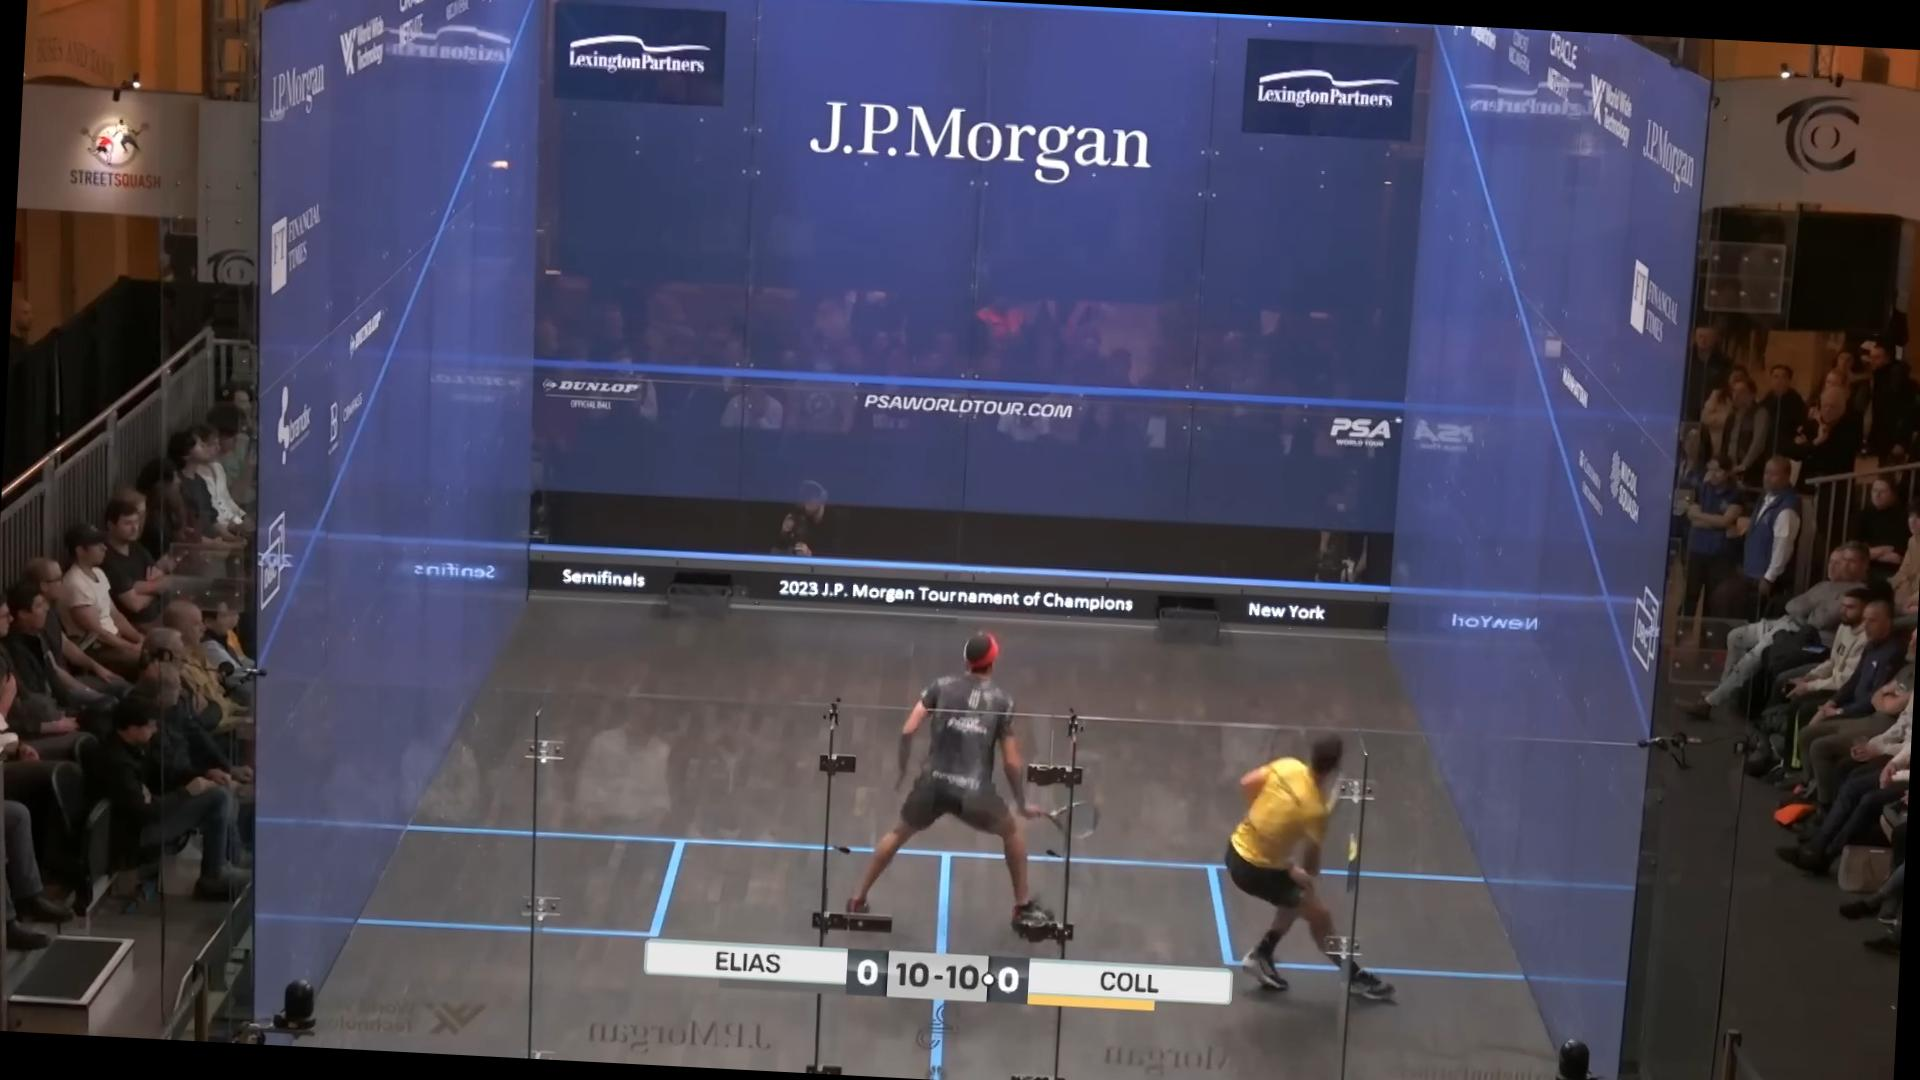Racket: (1036, 791, 1106, 852)
